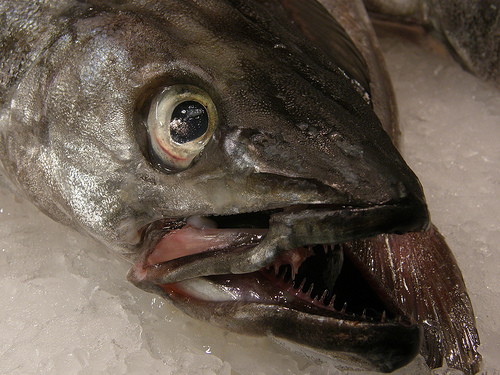fish: (0, 0, 487, 374)
